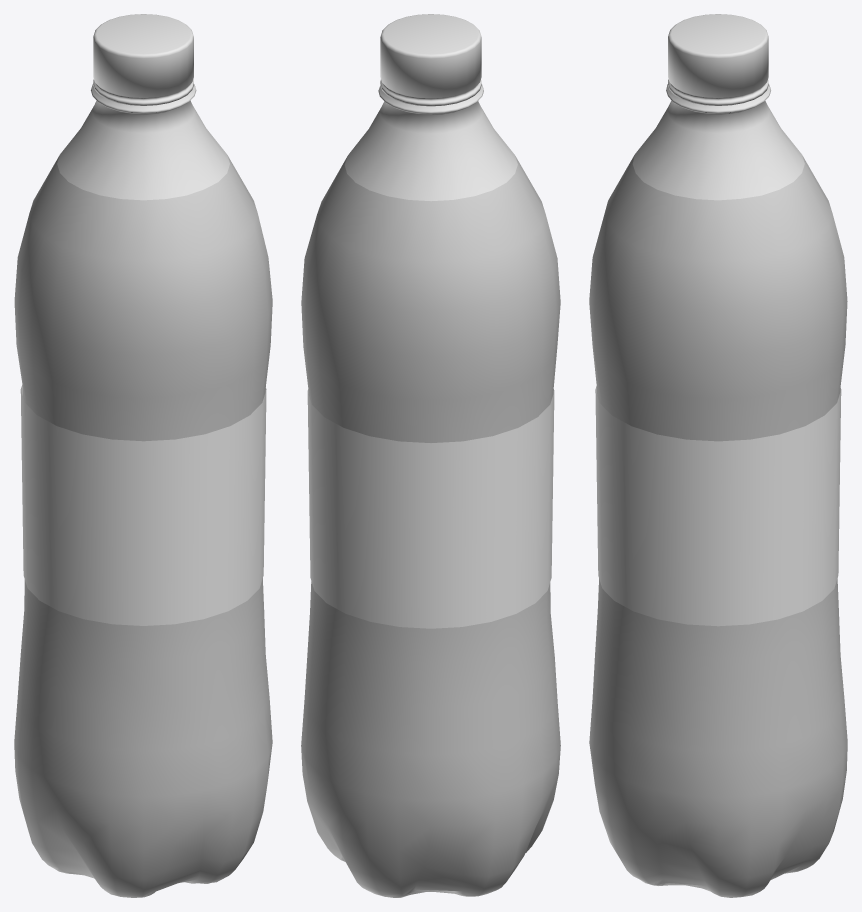
File: PLASTICO_WEB_v3.gltf
3 views of the same model, side by side, from view 1: azimuth 30°, elevation 25°; view 2: azimuth 150°, elevation 25°; view 3: azimuth 270°, elevation 25° (orthographic).
Visible parts, largest first — view 1: liquido, etiqueta, botella, tapon_lowpoly; view 2: liquido, etiqueta, botella, tapon_lowpoly; view 3: liquido, etiqueta, botella, tapon_lowpoly.
Boxes of the visible parts, x1,y1,x2,y2 form: liquido: (14,155,272,897); etiqueta: (20,385,266,625); botella: (57,84,229,200); tapon_lowpoly: (93,14,193,105); liquido: (301,156,560,897); etiqueta: (307,389,554,628); botella: (344,84,517,201); tapon_lowpoly: (380,14,481,106); liquido: (589,155,847,897); etiqueta: (595,386,841,626); botella: (632,84,804,200); tapon_lowpoly: (668,14,768,105).
Bounding box in the file's own units: 0.0889 × 0.3159 × 0.0889.
4 materials, 1 textured.
